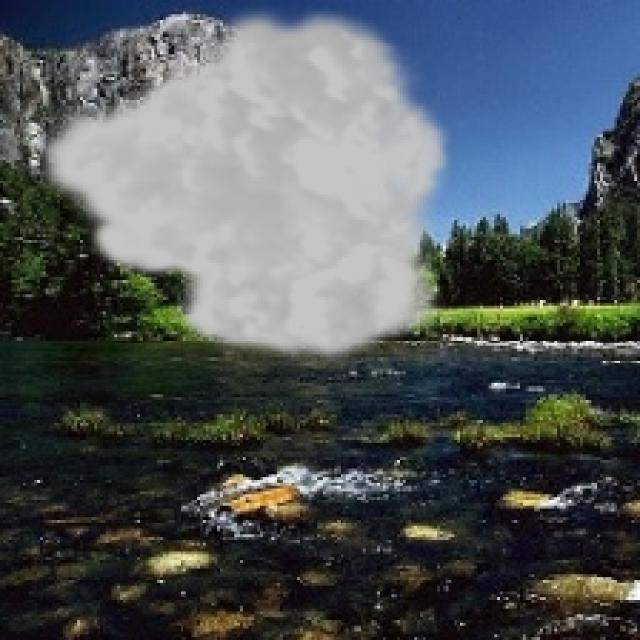smoke: (29, 0, 454, 366)
